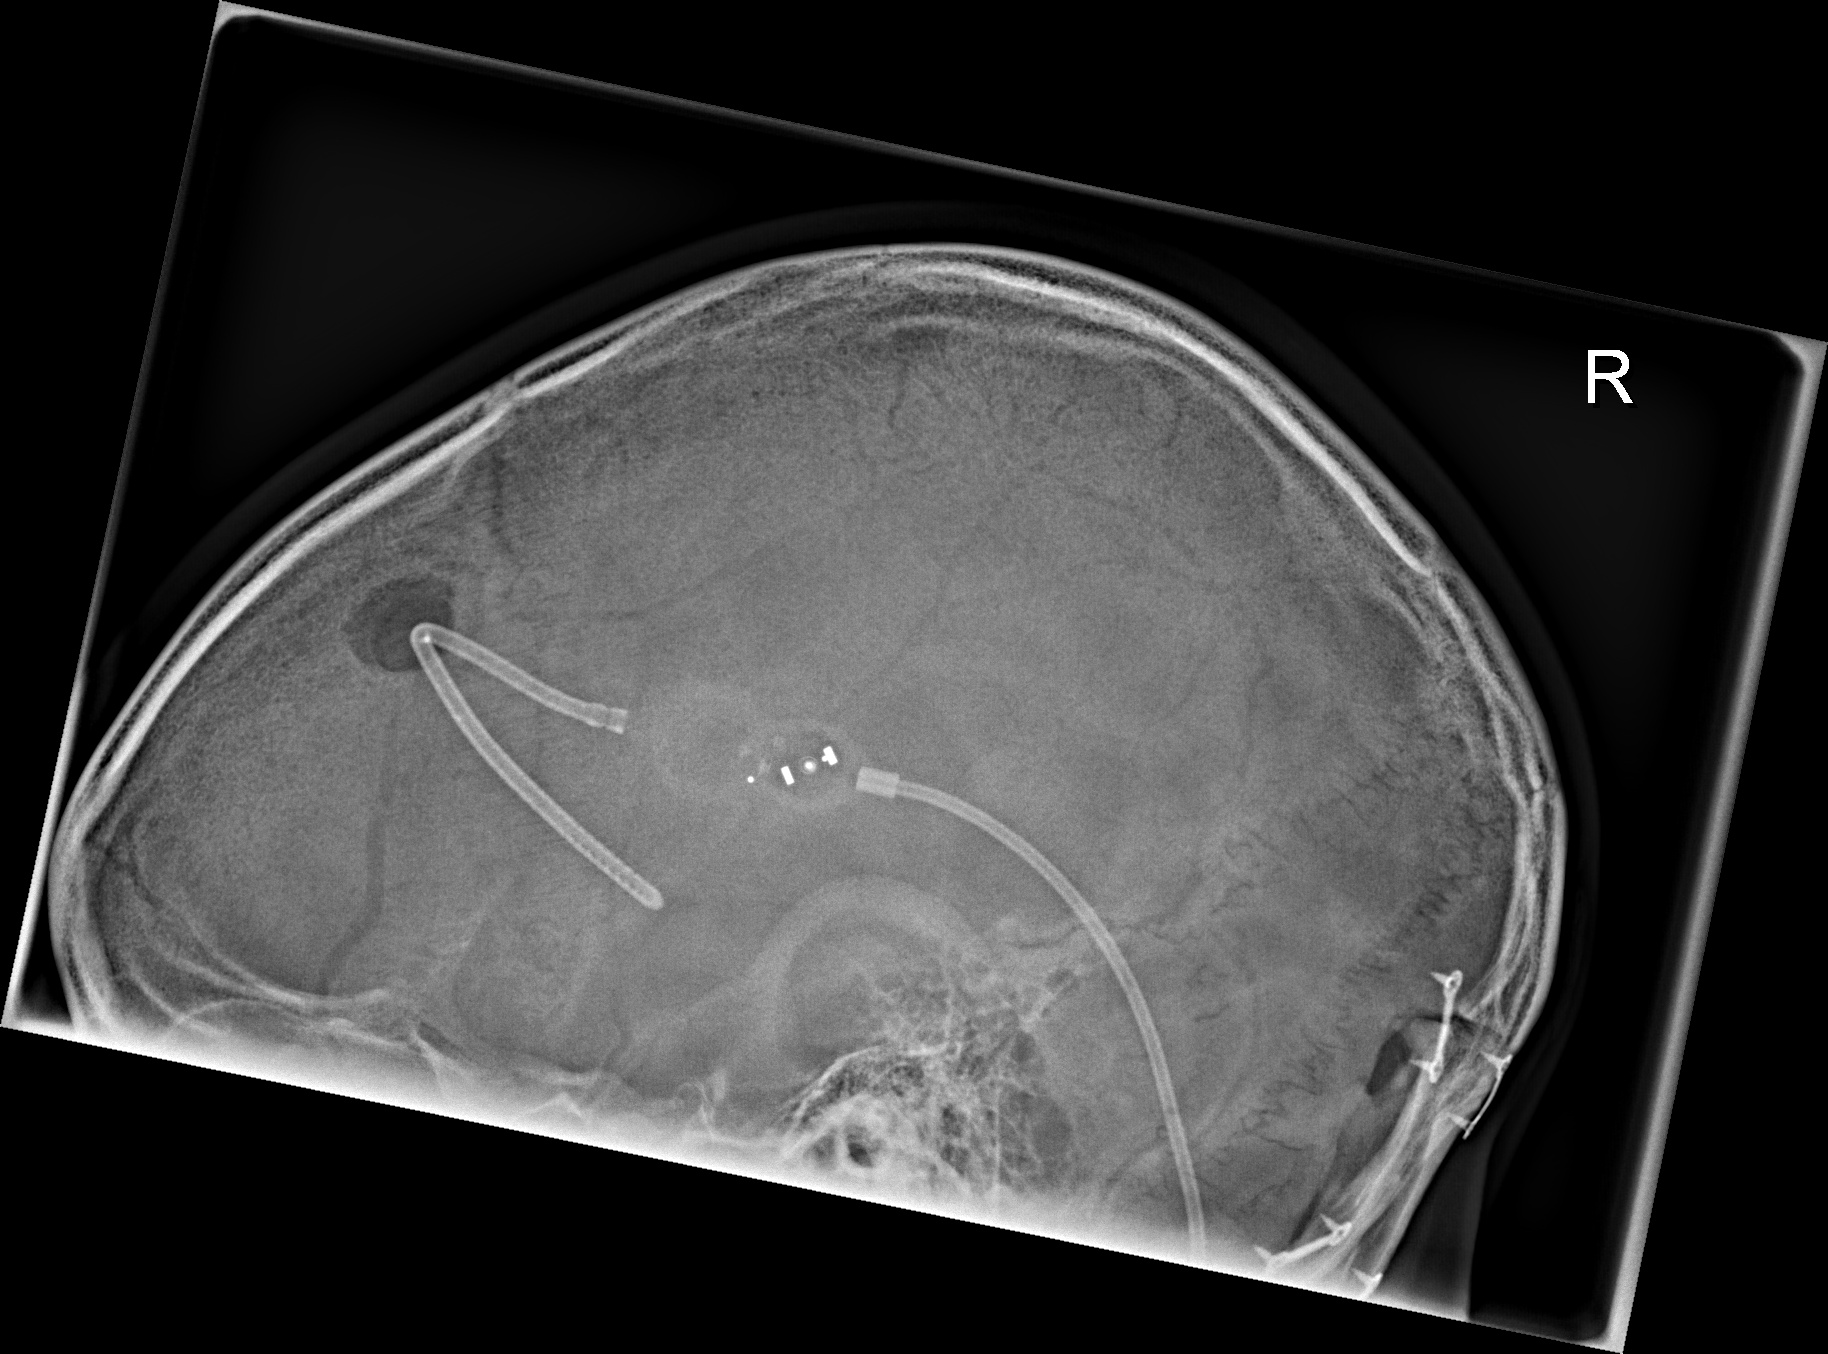Codman Certas: (731, 714, 865, 828)
